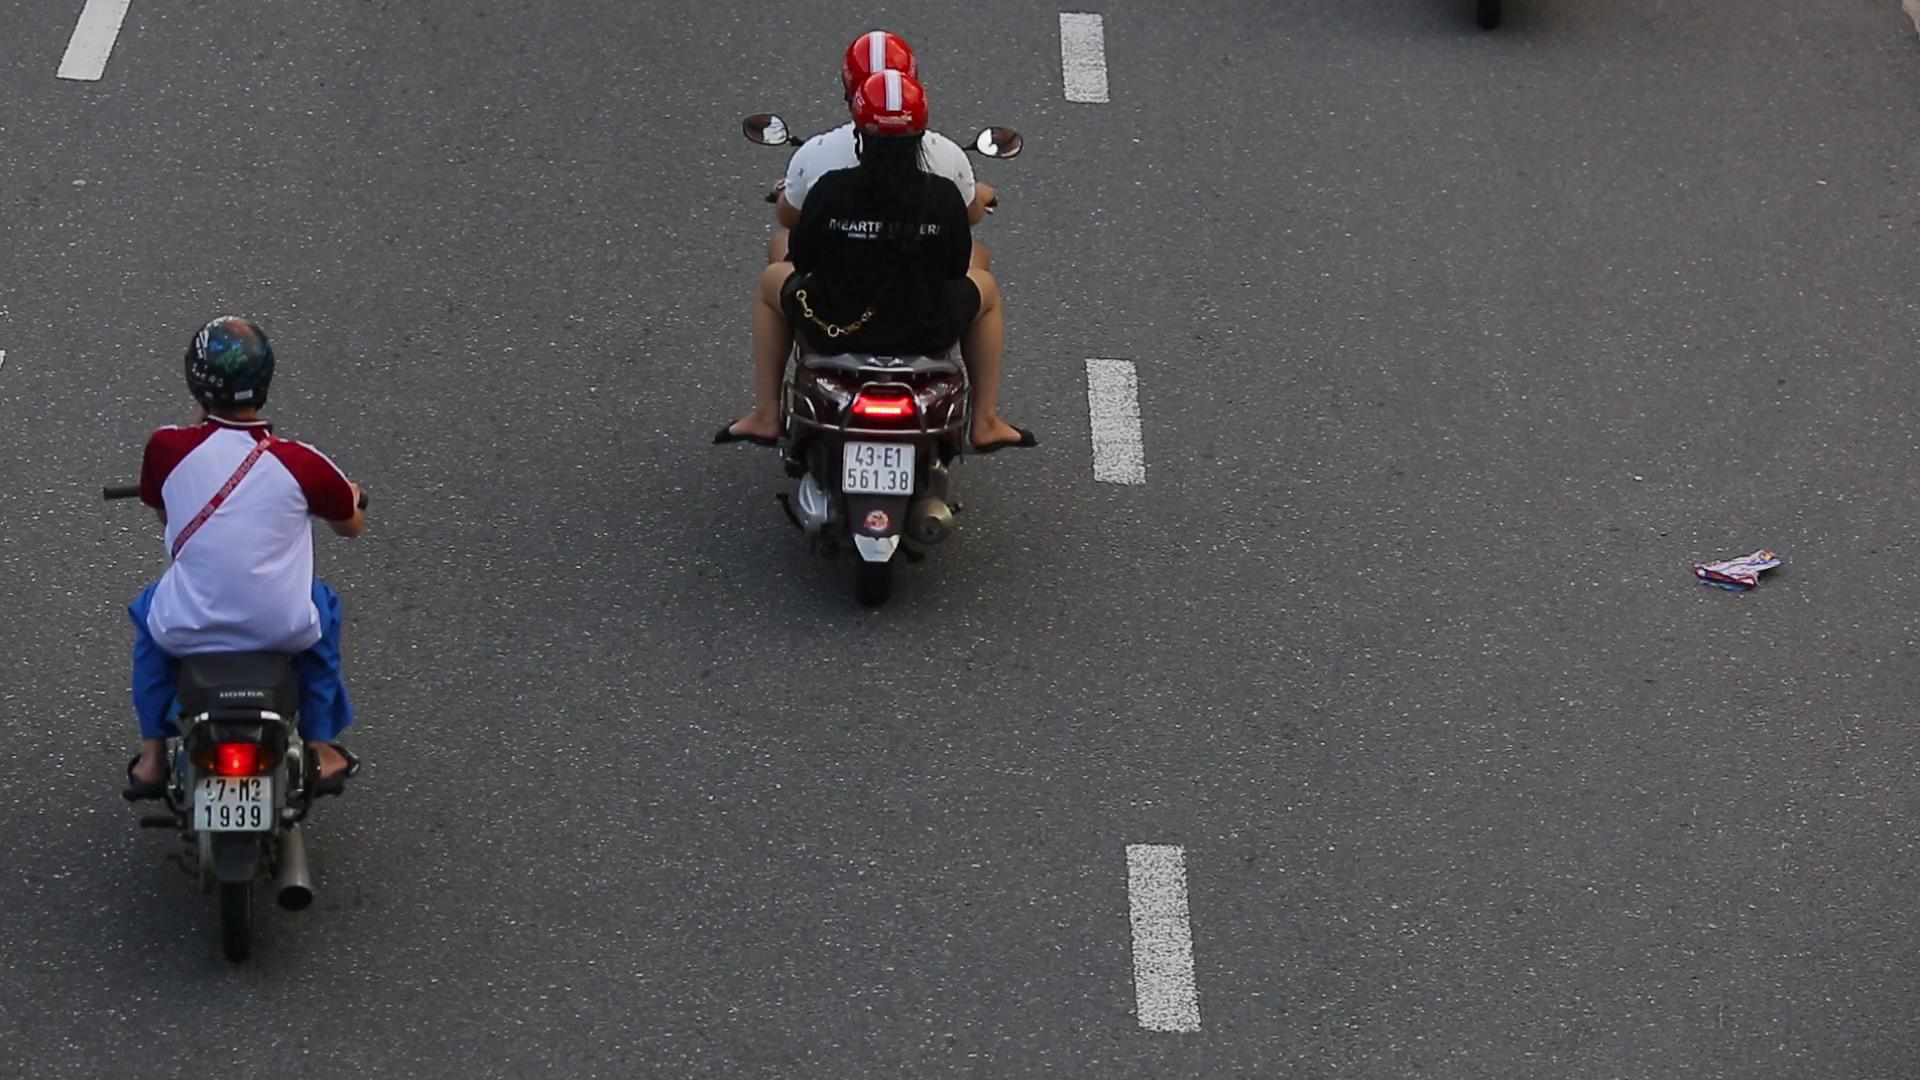motobike: (75, 314, 375, 986), (720, 38, 1044, 618)
